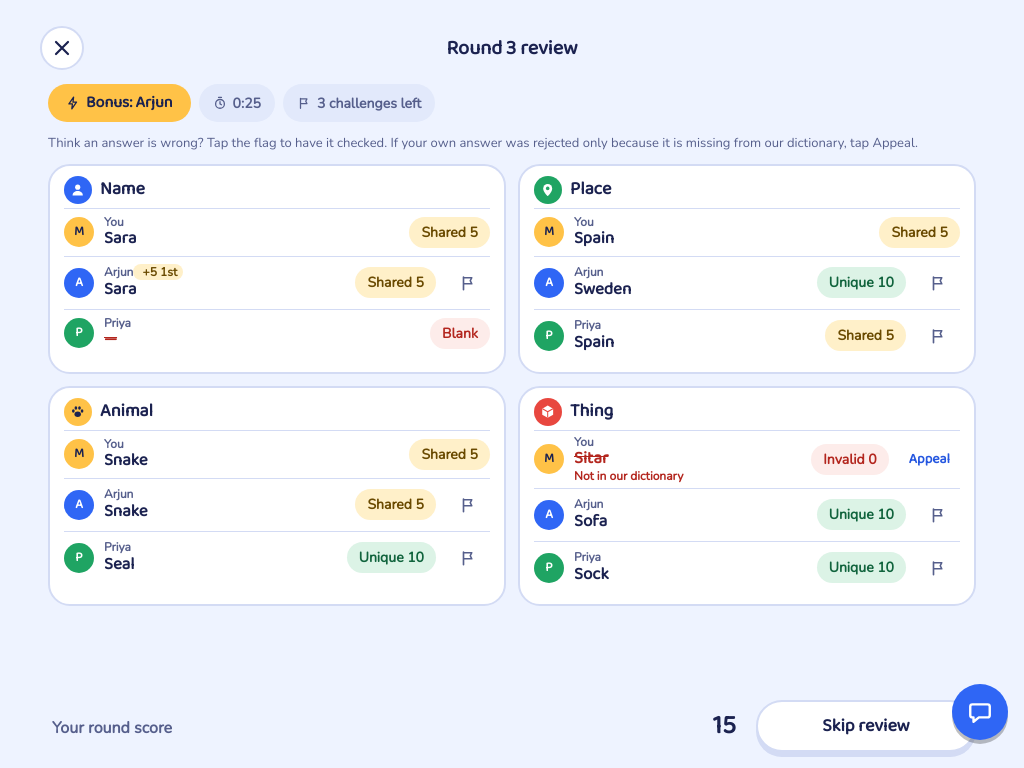
Test: challenges and appeals › asks first, then sends the challenge for that answer
This screenshot has width=1024, height=768.
Click the button named "Challenge Sweden" at (938, 282), box [916, 260, 960, 304]
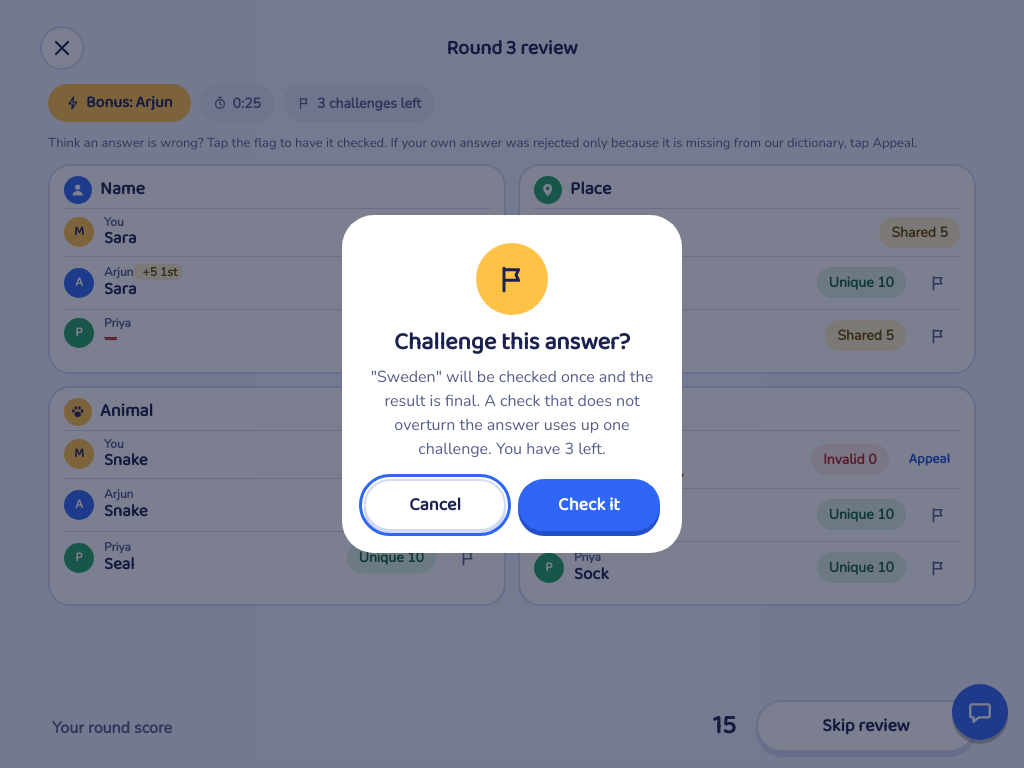
Now the dialog shows "You have 3 left", box [371, 366, 653, 460]
Click the button "Check it" at (589, 505), box [518, 479, 660, 531]
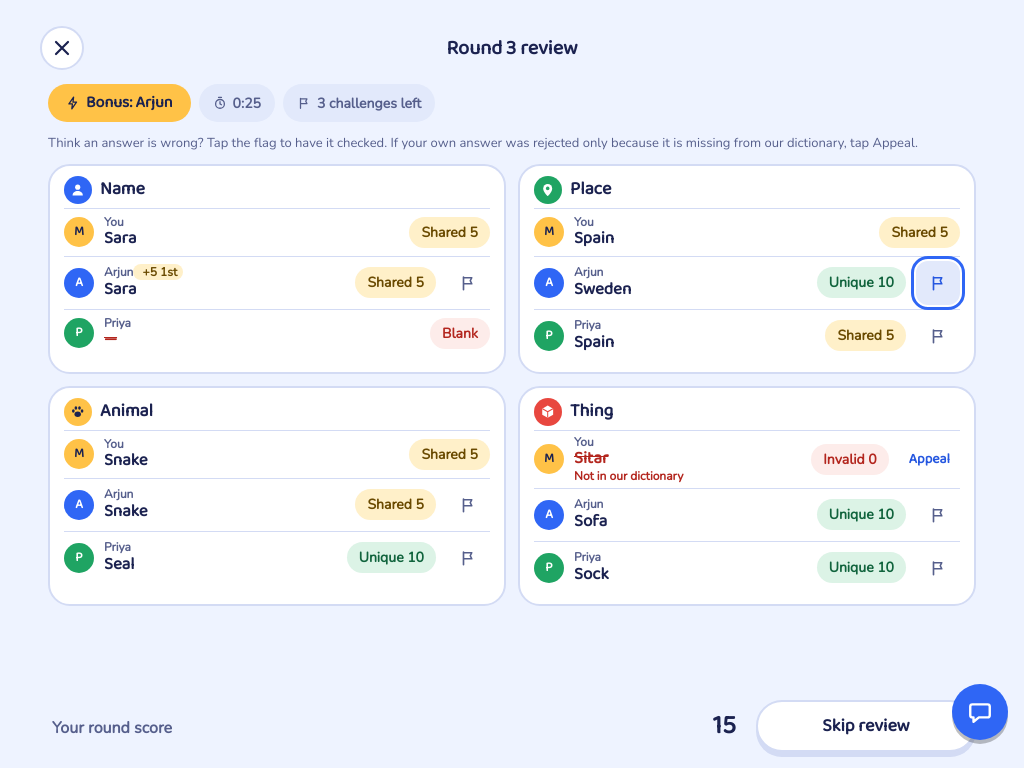
Now the dialog is gone
